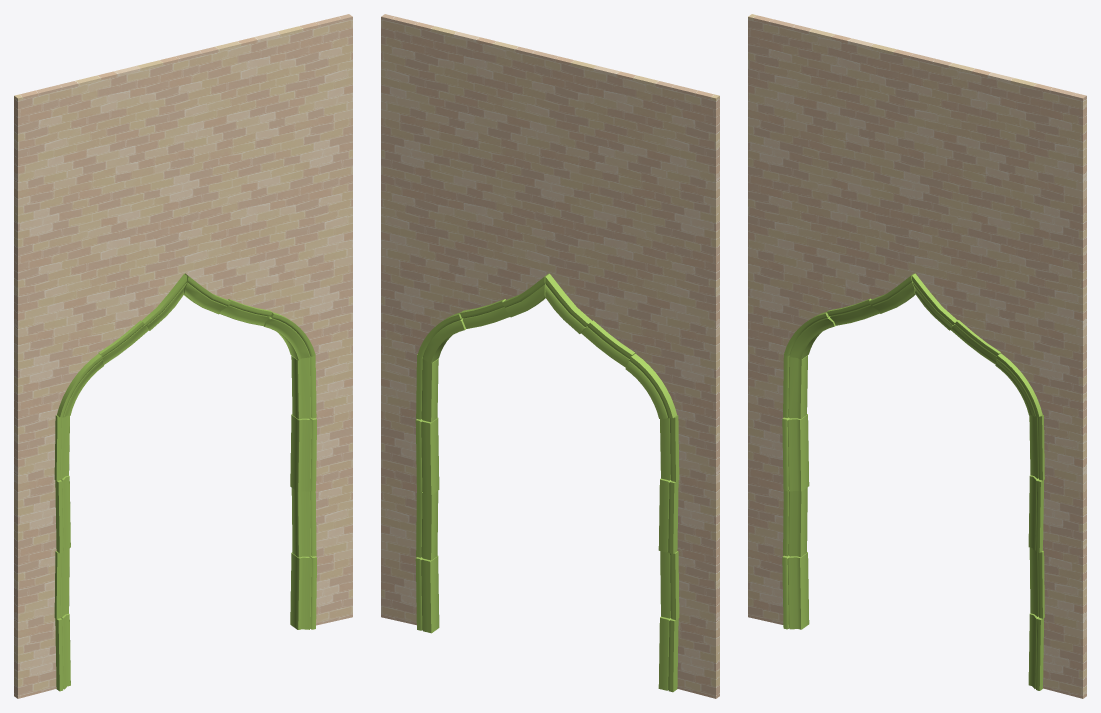
The model's file is SM_wall_door_large.fbx.
3 renders of one model, left to right at view 1: azimuth 30°, elevation 25°; view 2: azimuth 150°, elevation 25°; view 3: azimuth 330°, elevation 25°, orthographic.
Visible parts, largest first — view 1: Plane083; view 2: Plane083; view 3: Plane083.
Boxes of the visible parts, <box> form: Plane083: <box>14,14,352,698</box>; Plane083: <box>381,14,719,698</box>; Plane083: <box>748,14,1086,698</box>.
Bounding box in the file's own units: 179 × 306 × 10.45.
